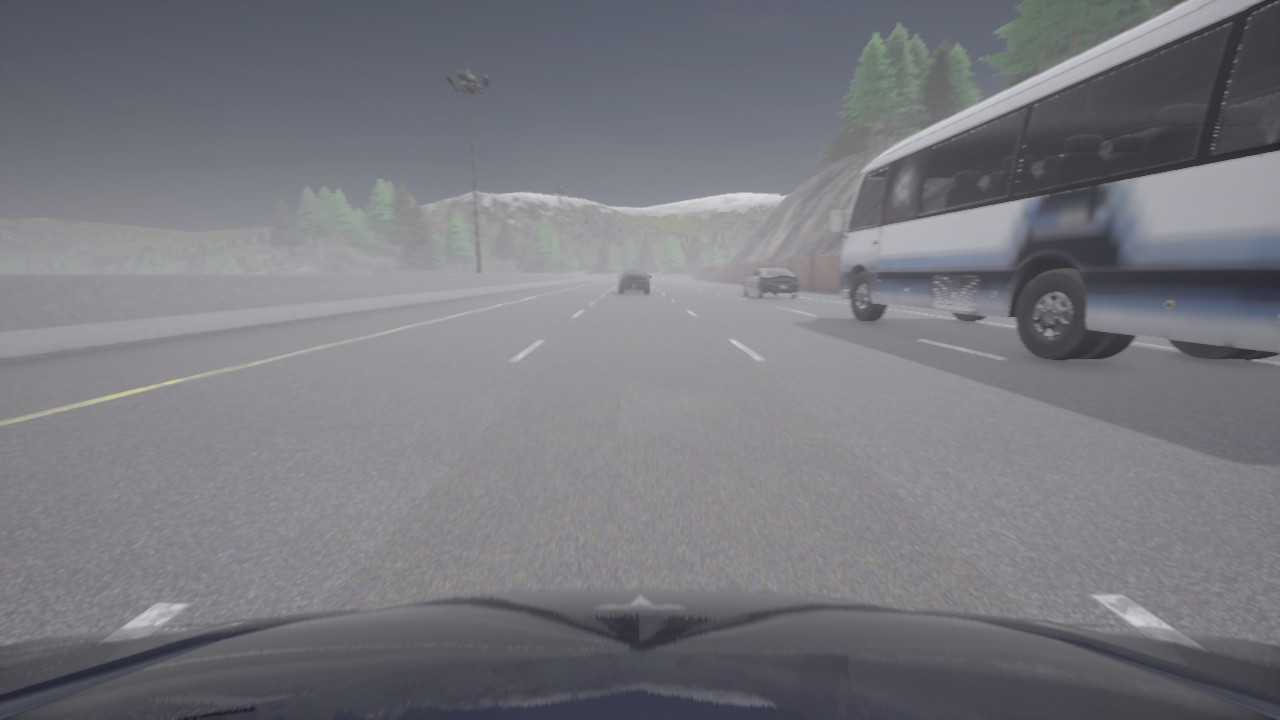cyclist: (0, 588, 1279, 719), (829, 0, 1279, 360), (743, 265, 798, 298), (617, 269, 650, 293)
